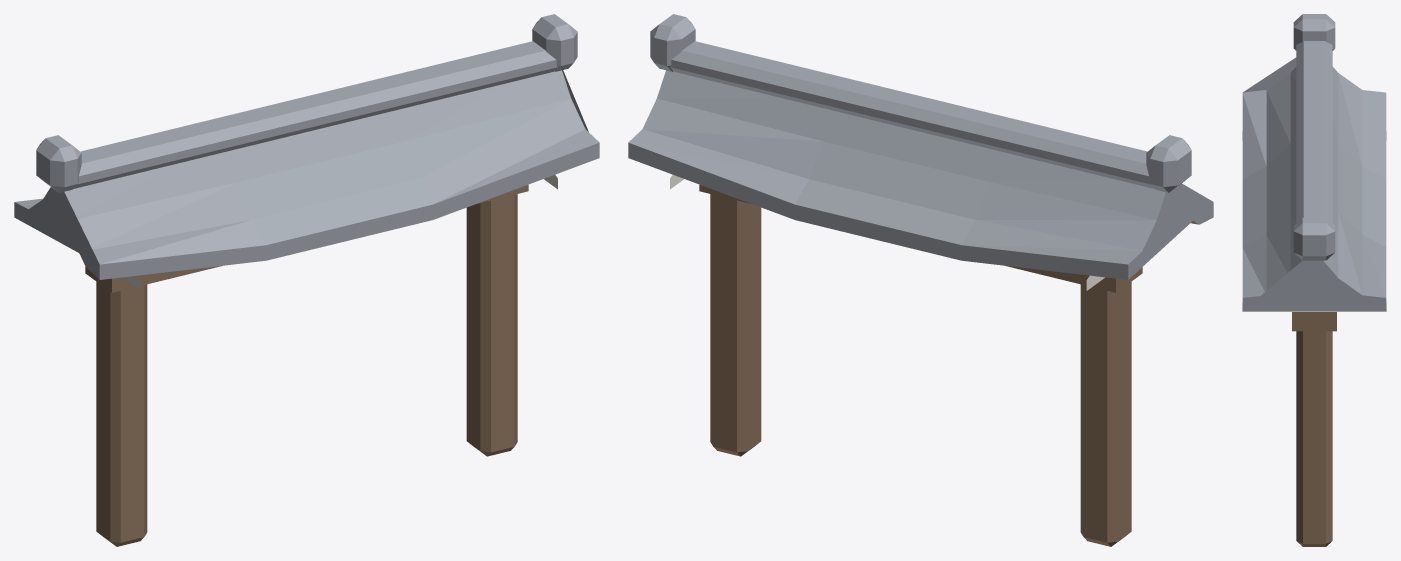
The model's file is feudal-japan-castle-town-town-gate-arch-e81d701e__26228.glb.
3 views of the same model, side by side, from view 1: azimuth 30°, elevation 25°; view 2: azimuth 150°, elevation 25°; view 3: azimuth 270°, elevation 25° (orthographic). The views are drawn at different scales.
Parts seen in each view (by area): view 1: town-gate-arch; view 2: town-gate-arch; view 3: town-gate-arch.
Part boxes in pixels (left/top/right/bottom): town-gate-arch: left=14, top=14, right=599, bottom=546; town-gate-arch: left=628, top=14, right=1213, bottom=546; town-gate-arch: left=1242, top=14, right=1386, bottom=546.
Size of the model in its own units: 5.7 by 4.26 by 1.6.
